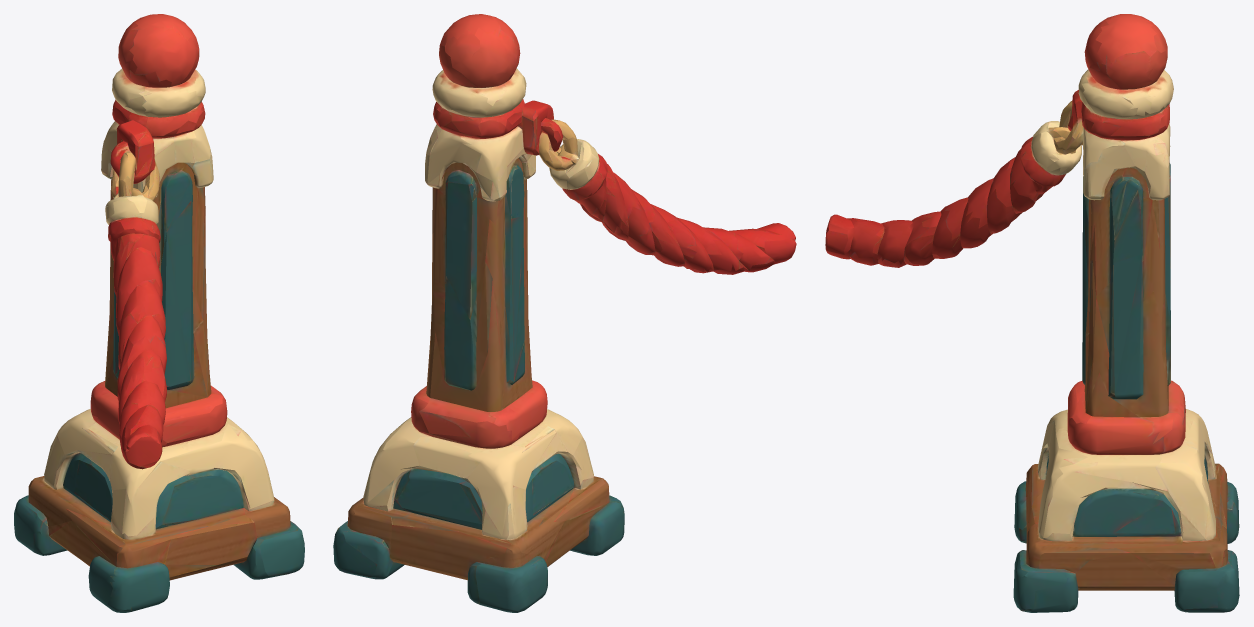
File: queueRope.glb
The picture shows the model from 3 angles, left to right: view 1: azimuth 30°, elevation 25°; view 2: azimuth 150°, elevation 25°; view 3: azimuth 270°, elevation 25°; orthographic projection. The views are drawn at different scales.
Parts seen in each view (by area): view 1: Mesh_0; view 2: Mesh_0; view 3: Mesh_0.
Part boxes in pixels (box(x1,y1,x2,y2)): Mesh_0: box(14, 14, 304, 612); Mesh_0: box(333, 14, 796, 612); Mesh_0: box(825, 14, 1239, 612).
Size of the model in its own units: 0.5063 by 0.9531 by 0.65.
Materials: 1 (1 with a texture image).
